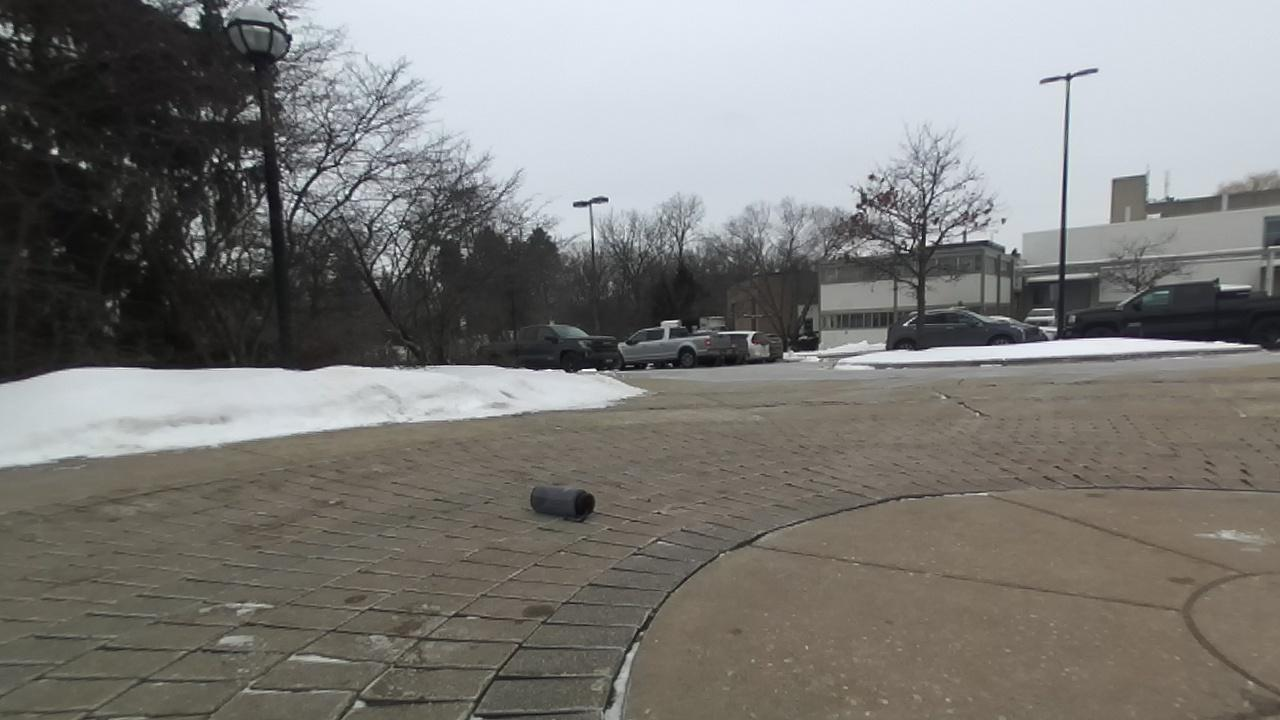bottle: (530, 485, 594, 520)
